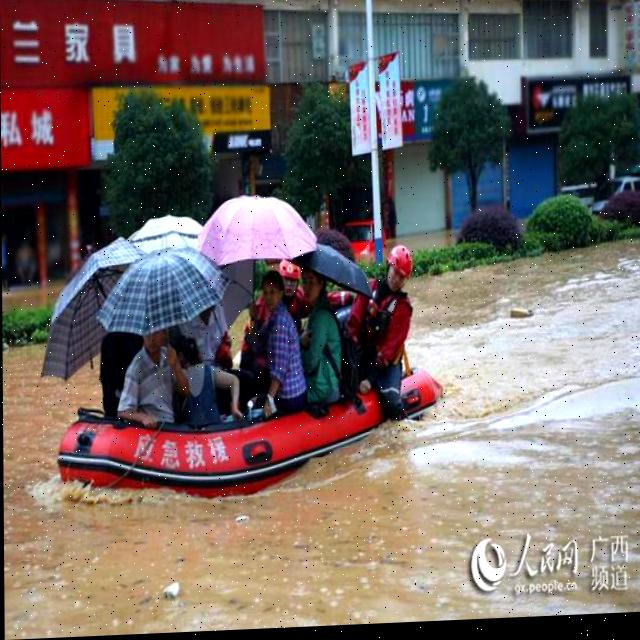civilian: (250, 263, 310, 428), (112, 313, 179, 446), (297, 265, 350, 415), (173, 323, 230, 433), (98, 322, 147, 432), (179, 297, 234, 385)
rescuer: (340, 226, 418, 427), (242, 253, 315, 368)
